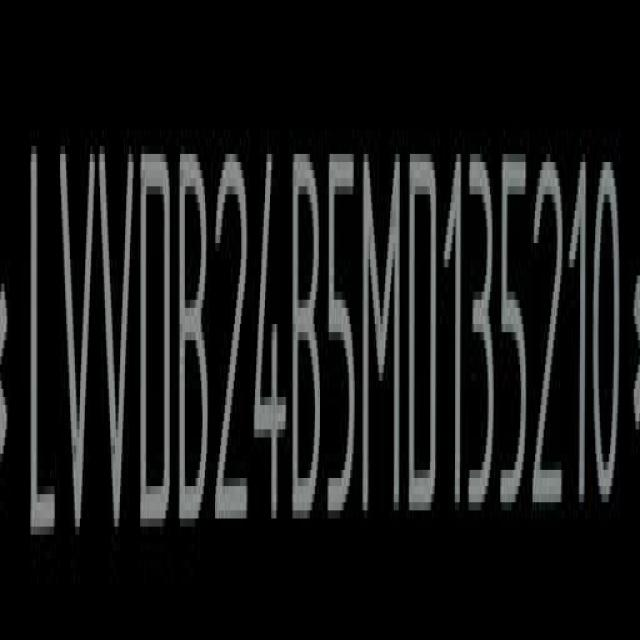0: (590, 147, 624, 522)
1: (441, 153, 465, 519), (569, 150, 589, 492)
2: (532, 138, 570, 519), (216, 150, 252, 522)
3: (466, 150, 498, 507)
4: (254, 144, 288, 516)
5: (498, 132, 532, 507), (327, 141, 360, 525)
B: (288, 147, 324, 525), (178, 141, 213, 522)
D: (136, 147, 173, 540), (409, 147, 437, 510)
L: (26, 129, 57, 543)
M: (362, 162, 406, 534)
V: (98, 138, 137, 537), (59, 138, 97, 543)
